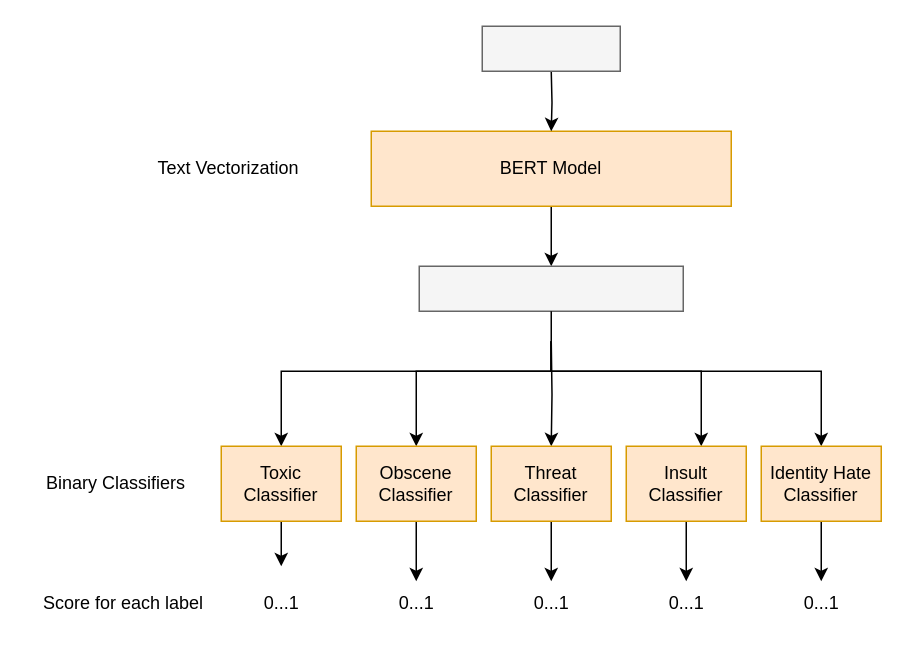
The diagram is 908 pixels wide and 668 high, and some of its shapes have lost their labels. Here are the shapes that lost their labels. From the top down, the box of each, then its label:
(481, 25, 620, 71): Text
(418, 265, 683, 311): Text Vector (512,1)
